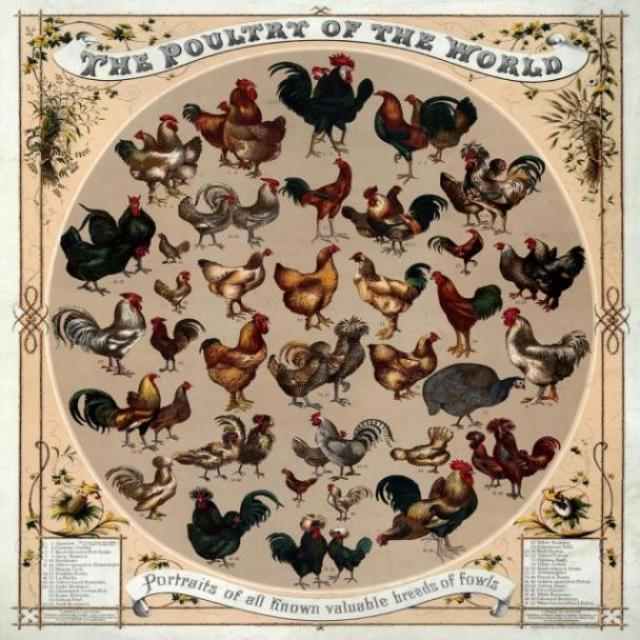Chicken: (263, 50, 359, 163), (497, 304, 594, 408), (371, 470, 475, 564), (370, 88, 467, 187), (46, 287, 147, 382), (183, 483, 286, 572), (194, 311, 275, 415), (51, 206, 142, 297), (345, 249, 433, 340), (462, 143, 547, 237), (72, 192, 162, 279), (64, 370, 159, 451), (273, 155, 356, 246), (179, 75, 259, 169), (426, 268, 506, 360), (305, 409, 400, 485), (356, 185, 452, 260), (193, 175, 286, 250), (109, 113, 180, 208), (274, 239, 340, 336), (490, 417, 563, 503), (303, 66, 379, 148), (213, 97, 286, 181), (362, 329, 443, 404), (400, 92, 482, 166), (192, 249, 273, 322), (98, 451, 179, 523), (261, 510, 331, 588), (371, 474, 444, 547), (520, 236, 585, 312), (440, 139, 493, 232), (129, 127, 206, 190), (124, 380, 197, 443), (143, 312, 211, 376), (337, 184, 406, 245), (490, 239, 559, 300), (467, 429, 529, 490), (175, 194, 239, 253), (426, 226, 488, 277), (324, 526, 374, 588), (289, 429, 347, 477), (325, 482, 376, 523), (152, 270, 197, 315), (278, 466, 321, 506), (155, 229, 193, 266)
